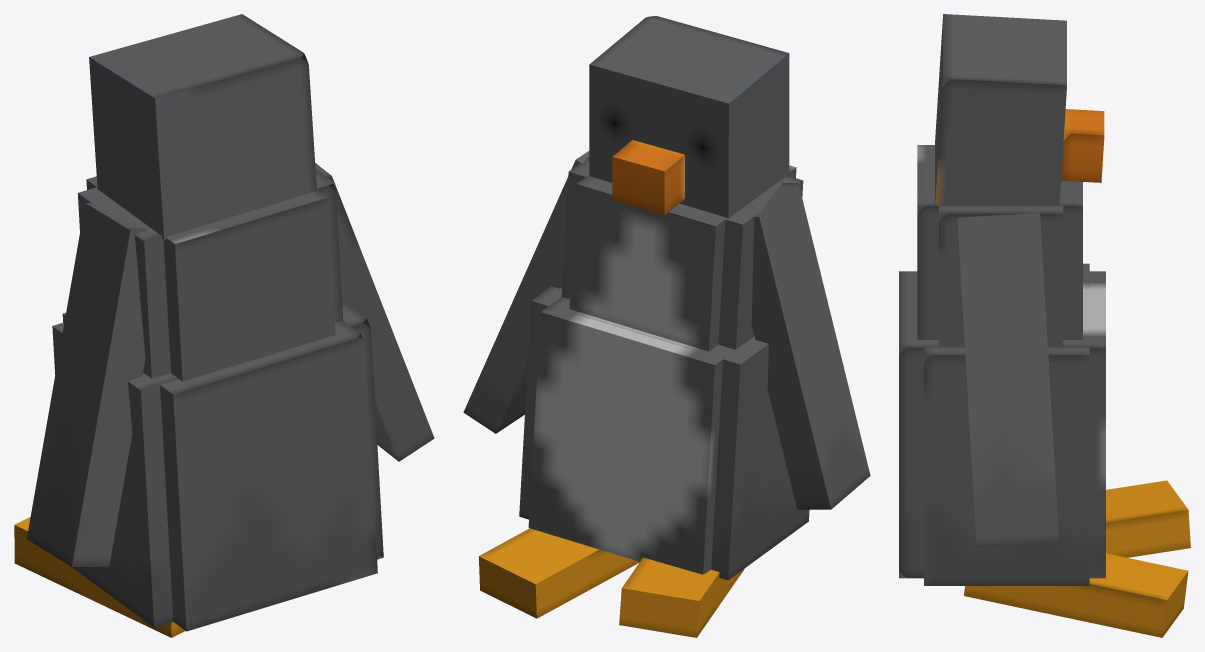
3 renders of one model, left to right at view 1: azimuth 30°, elevation 25°; view 2: azimuth 150°, elevation 25°; view 3: azimuth 270°, elevation 25°, orthographic. The views are drawn at different scales.
Visible parts, largest first — view 1: body, head, left_arm, right_arm, left_feet; view 2: body, head, left_arm, right_feet, right_arm, left_feet; view 3: body, right_arm, head, right_feet, left_feet.
Boxes of the visible parts, left/top/right/bottom form: body: left=52, top=169, right=383, bottom=631; head: left=89, top=14, right=316, bottom=240; left_arm: left=27, top=203, right=147, bottom=566; right_arm: left=315, top=163, right=434, bottom=461; left_feet: left=14, top=517, right=185, bottom=637; body: left=519, top=157, right=809, bottom=580; head: left=589, top=16, right=789, bottom=218; left_arm: left=751, top=183, right=870, bottom=509; right_feet: left=478, top=528, right=639, bottom=618; right_arm: left=463, top=151, right=589, bottom=433; left_feet: left=619, top=557, right=744, bottom=637; body: left=899, top=145, right=1105, bottom=585; right_arm: left=957, top=212, right=1059, bottom=547; head: left=935, top=14, right=1104, bottom=205; right_feet: left=964, top=553, right=1188, bottom=637; left_feet: left=1106, top=480, right=1190, bottom=557.
Bounding box in the file's own units: 0.6273 × 0.886 × 0.4406.
